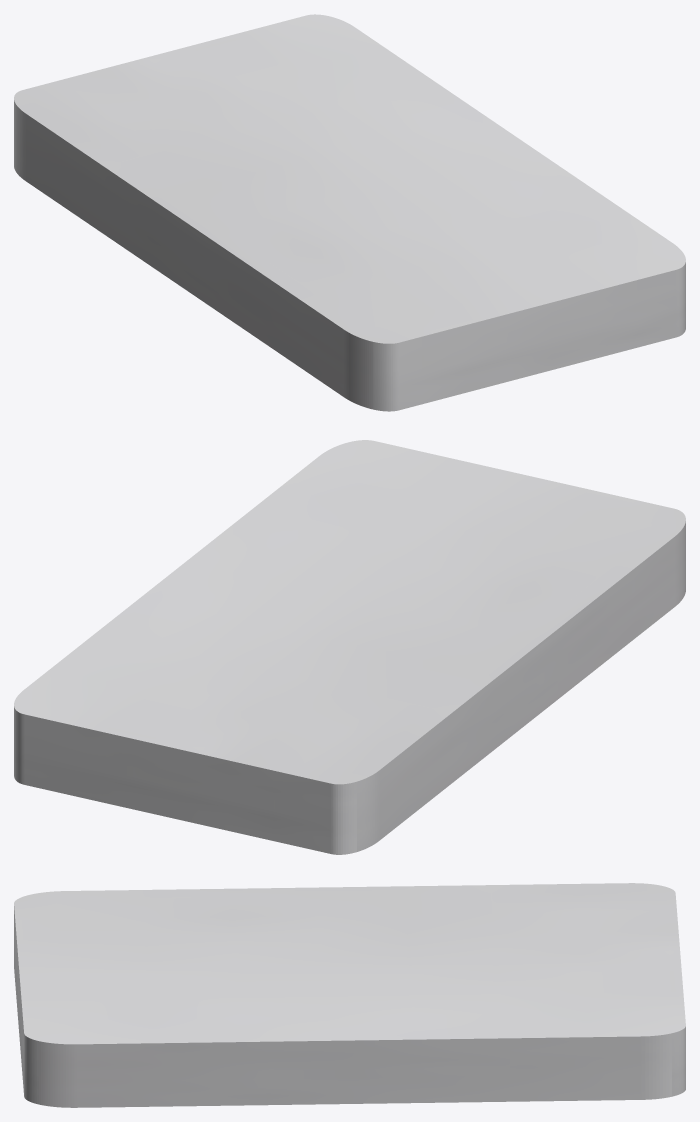
The model's file is colchon.fbx.
3 views of the same model, one above another, from view 1: azimuth 30°, elevation 25°; view 2: azimuth 150°, elevation 25°; view 3: azimuth 270°, elevation 25° (orthographic). The views are drawn at different scales.
Parts seen in each view (by area): view 1: Cube.009; view 2: Cube.009; view 3: Cube.009.
Part boxes in pixels (x1=…): Cube.009: x1=14, y1=14, x2=685, y2=411; Cube.009: x1=14, y1=440, x2=685, y2=854; Cube.009: x1=14, y1=883, x2=685, y2=1107.
Bounding box in the file's own units: 101 × 18.45 × 177.
